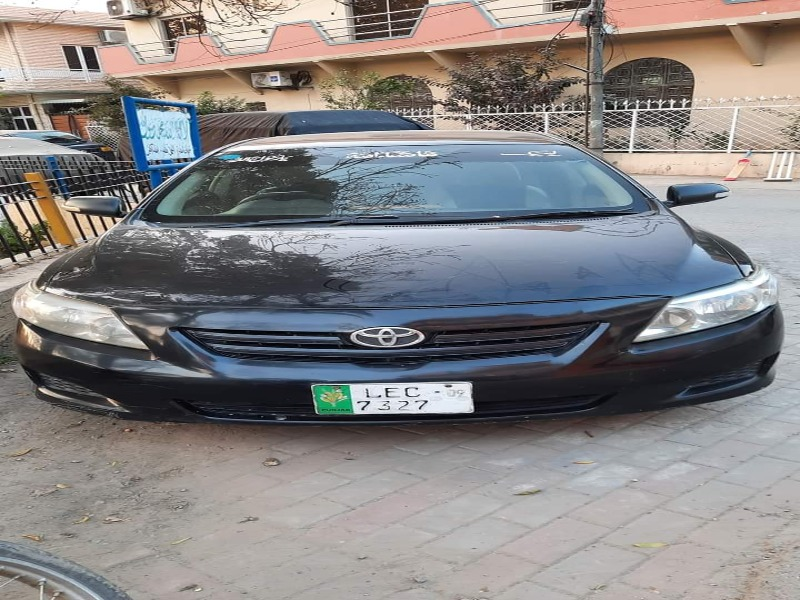License Plate: (305, 376, 476, 425)
